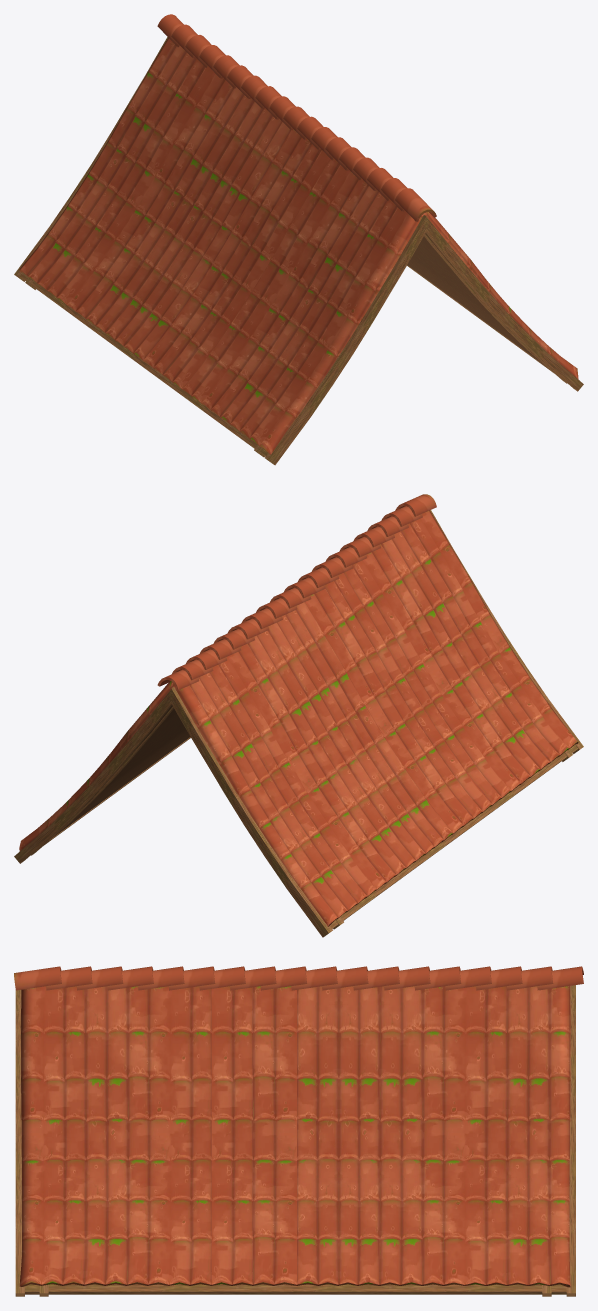
Rendered from roof_roundtiles_8x12.glb.
3 views of the same model, one above another, from view 1: azimuth 30°, elevation 25°; view 2: azimuth 150°, elevation 25°; view 3: azimuth 270°, elevation 25° (orthographic). The views are drawn at different scales.
Bounding box in the file's own units: 9.95 × 6.78 × 14.13.
Materials: 2 (2 with a texture image).
